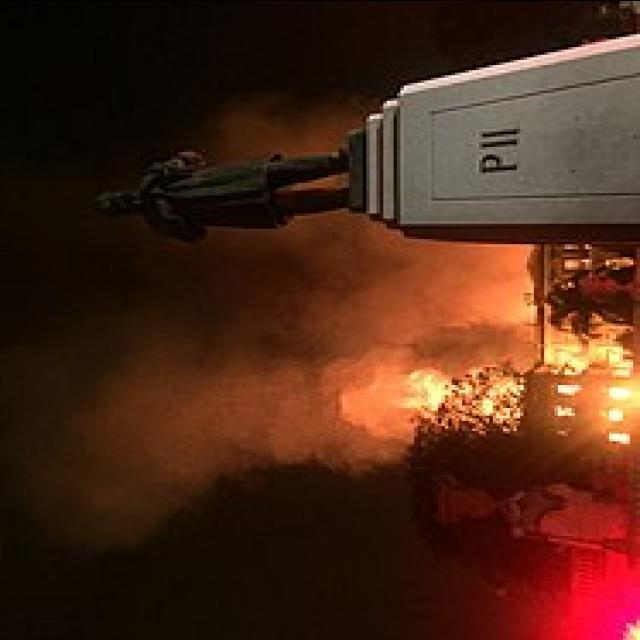Fire: (318, 335, 630, 443)
